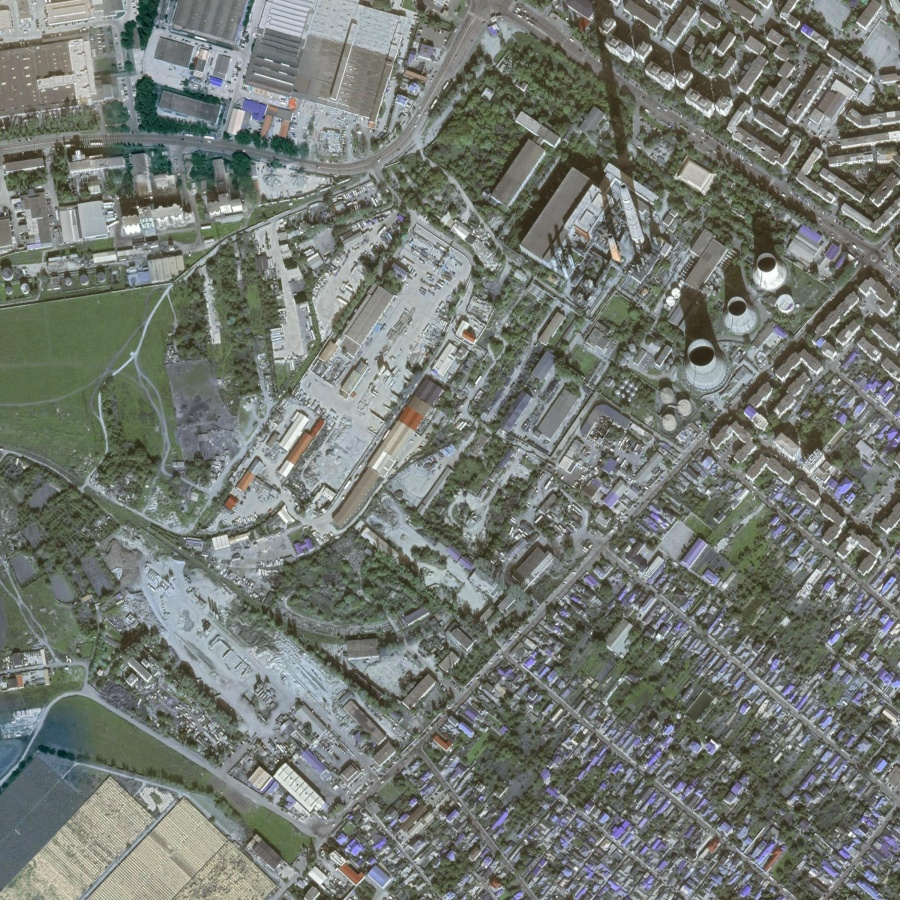PowerPlant: (527, 74, 813, 418)
